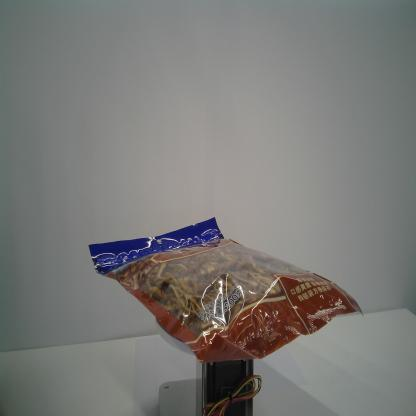Dried Food: (87, 216, 364, 366)
